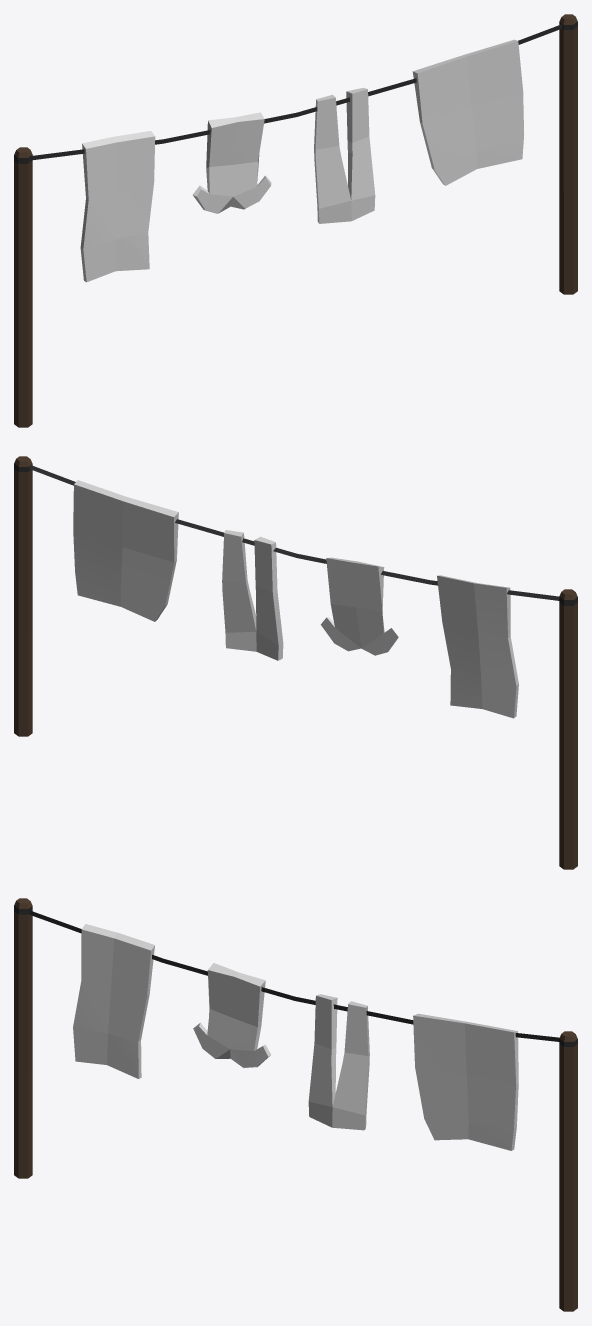
The model's file is props_dryer-outside.fbx.
3 views of the same model, one above another, from view 1: azimuth 30°, elevation 25°; view 2: azimuth 150°, elevation 25°; view 3: azimuth 330°, elevation 25° (orthographic).
Parts seen in each view (by area): view 1: dryer_outside_clothes, dryer_outside_base; view 2: dryer_outside_clothes, dryer_outside_base; view 3: dryer_outside_clothes, dryer_outside_base.
Part boxes in pixels (x1,y1,x2,y2): dryer_outside_clothes: (80, 39, 523, 282); dryer_outside_base: (14, 14, 577, 427); dryer_outside_clothes: (73, 480, 518, 718); dryer_outside_base: (14, 456, 577, 869); dryer_outside_clothes: (73, 924, 518, 1150); dryer_outside_base: (14, 898, 577, 1311).
Bounding box in the file's own units: 200 × 93.67 × 8.94.
